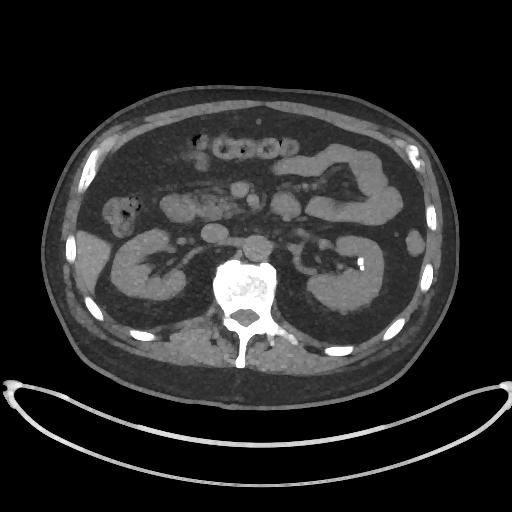Lesion: (355, 255, 366, 271)
